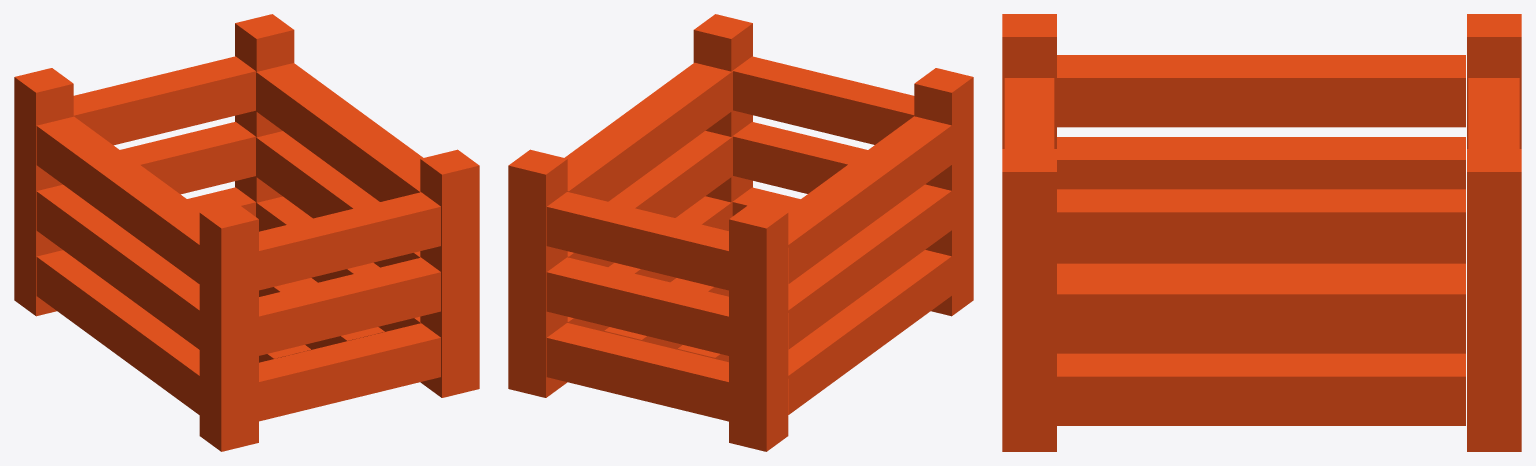
Rendered from wooden_basket_3.FBX.
3 renders of one model, left to right at view 1: azimuth 30°, elevation 25°; view 2: azimuth 150°, elevation 25°; view 3: azimuth 270°, elevation 25°, orthographic. The views are drawn at different scales.
Parts seen in each view (by area): view 1: wooden_basket_3; view 2: wooden_basket_3; view 3: wooden_basket_3.
Part boxes in pixels (x1=…): wooden_basket_3: x1=14, y1=14, x2=479, y2=451; wooden_basket_3: x1=508, y1=14, x2=973, y2=451; wooden_basket_3: x1=1002, y1=14, x2=1521, y2=451.
Bounding box in the file's own units: 0.562 × 0.4649 × 0.7807.
Materials: 1 (1 with a texture image).
